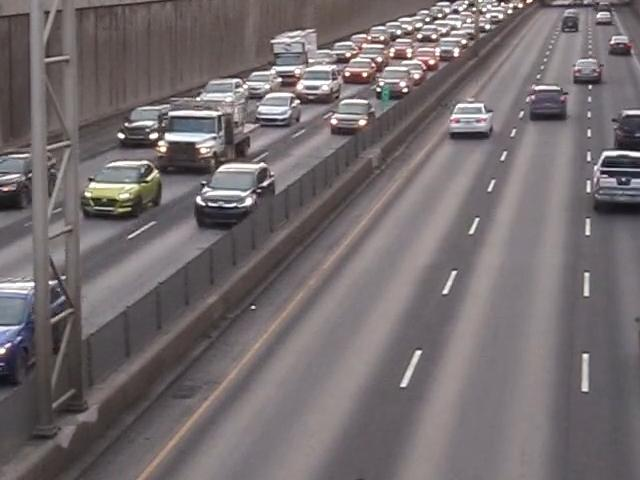car: (0, 273, 78, 391), (190, 162, 273, 227), (80, 160, 160, 222), (0, 144, 56, 216), (589, 147, 640, 212), (117, 103, 169, 146), (446, 100, 496, 142), (326, 99, 381, 134), (254, 91, 305, 127), (526, 84, 571, 122), (197, 77, 248, 109), (295, 69, 342, 103), (607, 106, 640, 150), (380, 60, 422, 92), (342, 54, 382, 85), (568, 56, 607, 85), (243, 72, 278, 100), (412, 45, 442, 72), (271, 62, 303, 87), (384, 41, 416, 66), (309, 52, 338, 76), (609, 36, 631, 57)
truck: (158, 92, 258, 174), (269, 29, 319, 80)
